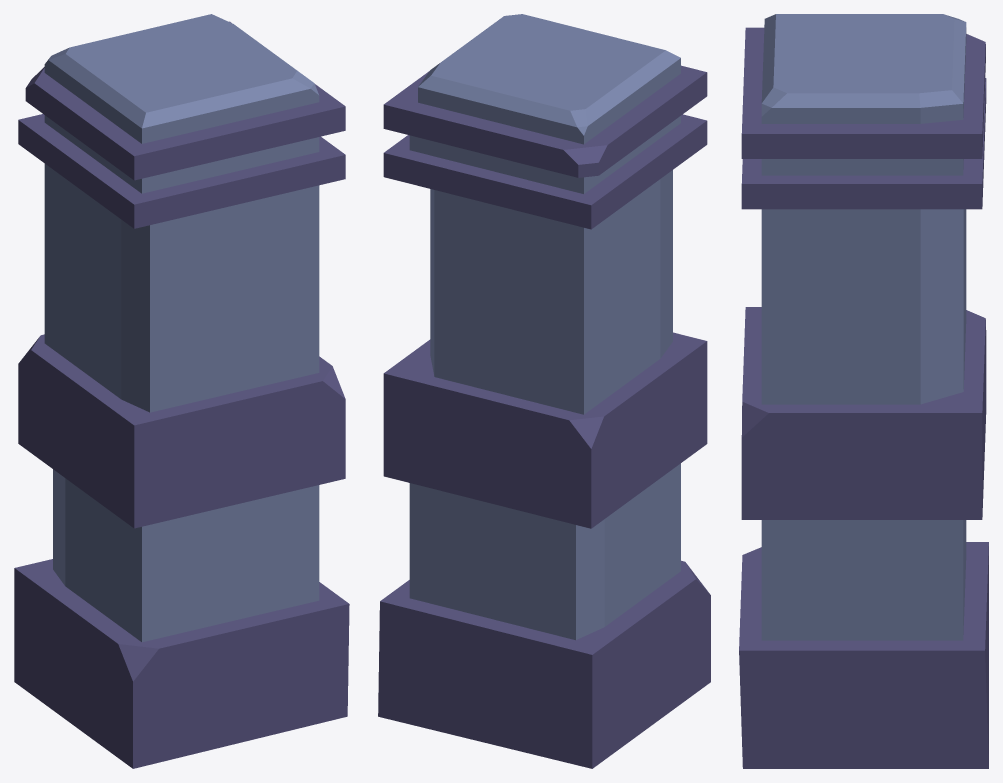
The model's file is Fence_Column_01.fbx.
3 renders of one model, left to right at view 1: azimuth 30°, elevation 25°; view 2: azimuth 150°, elevation 25°; view 3: azimuth 270°, elevation 25°, orthographic. The views are drawn at different scales.
Parts seen in each view (by area): view 1: Fence_Column_01; view 2: Fence_Column_01; view 3: Fence_Column_01.
Boxes of the visible parts, x1,y1,x2,y2 form: Fence_Column_01: (14,14,349,768); Fence_Column_01: (378,14,710,768); Fence_Column_01: (739,14,988,768).
Size of the model in its own units: 78.67 by 223 by 76.54.
